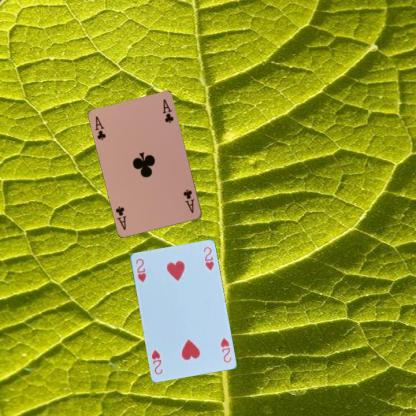2h: (218, 335, 232, 364), (133, 256, 147, 283)
Ac: (92, 114, 108, 141), (181, 187, 196, 214)
